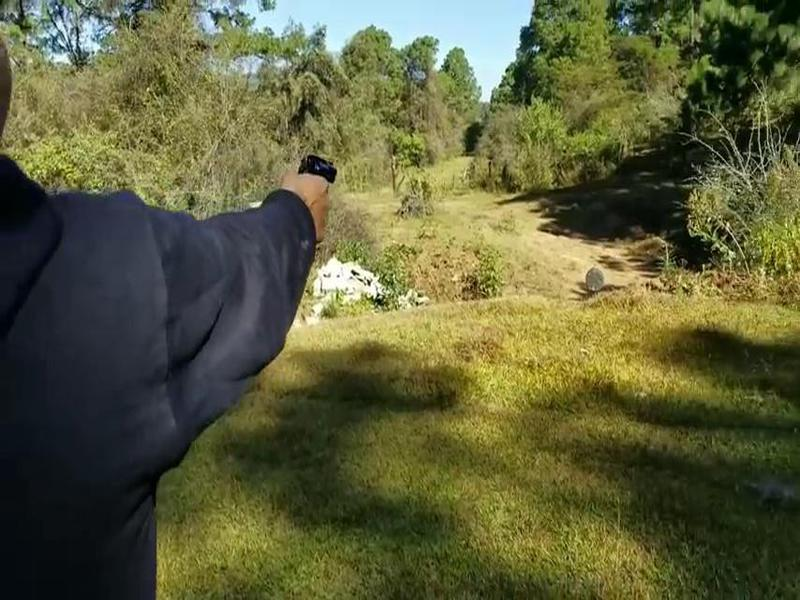Revolver: (295, 142, 350, 211)
